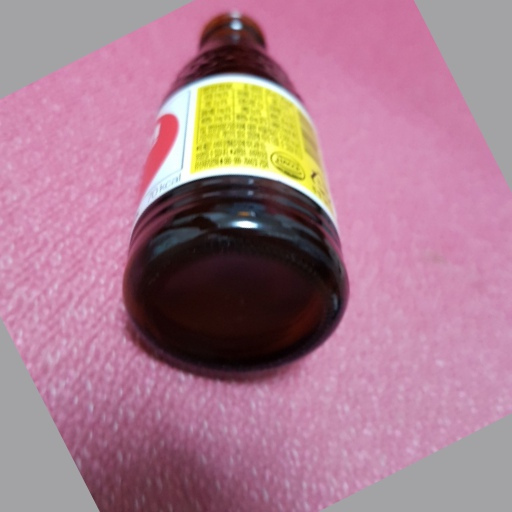Glass_3: (121, 9, 354, 373)
